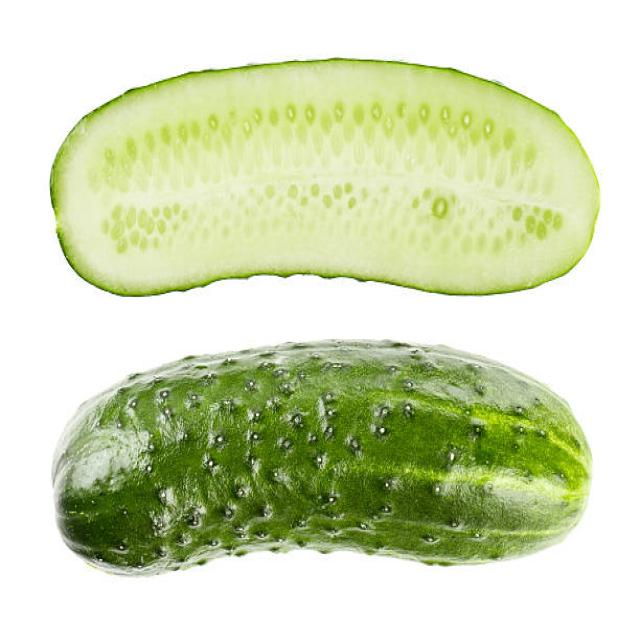cucumber: (49, 55, 599, 299), (52, 341, 590, 581)
